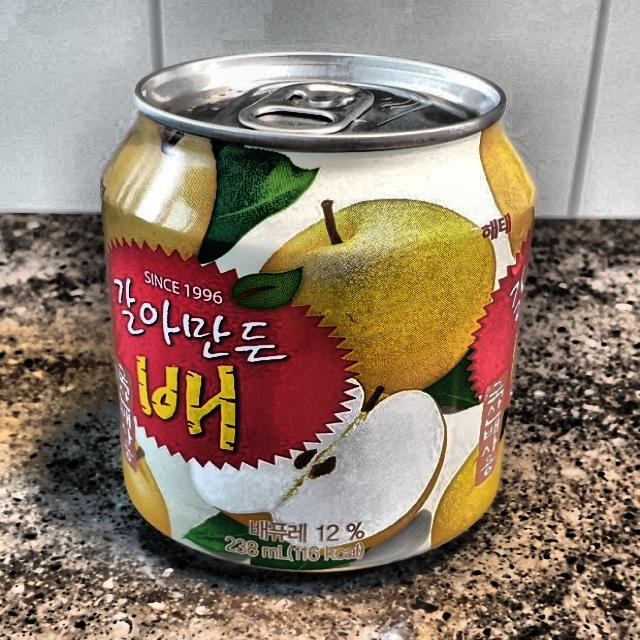galamandeunbae: (108, 120, 519, 554)
